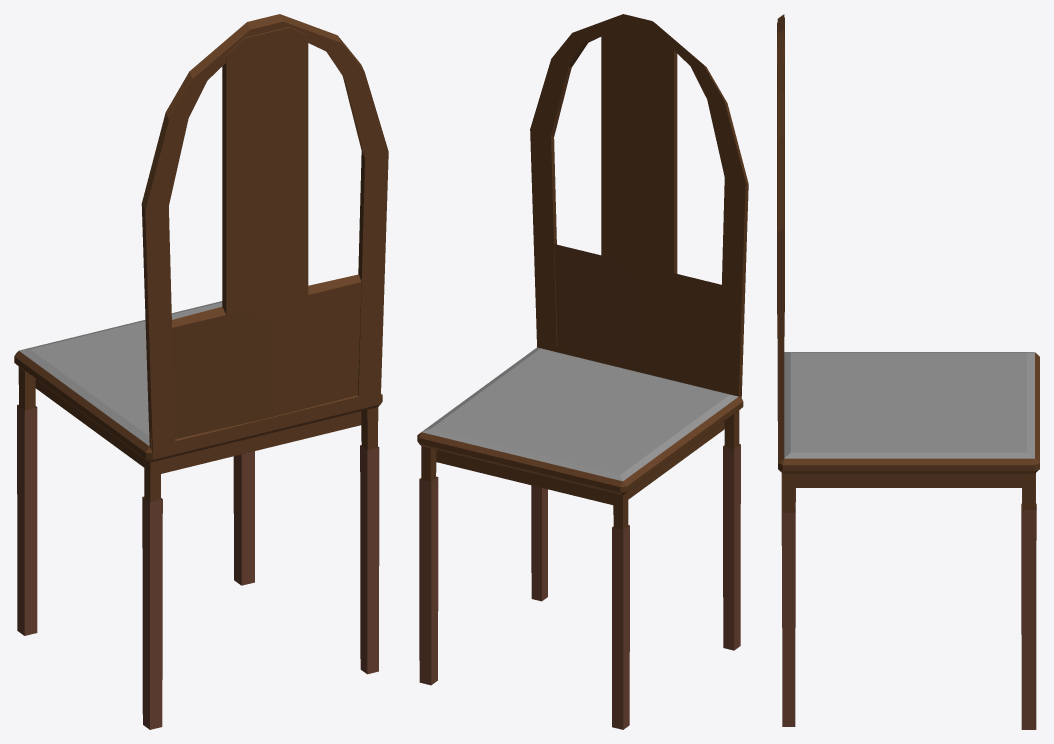
File: 1920Chair.fbx
The picture shows the model from 3 angles, left to right: view 1: azimuth 30°, elevation 25°; view 2: azimuth 150°, elevation 25°; view 3: azimuth 270°, elevation 25°; orthographic projection. The views are drawn at different scales.
Parts seen in each view (by area): view 1: Cube; view 2: Cube; view 3: Cube.
Boxes of the visible parts, left/top/right/bottom form: Cube: left=14, top=14, right=388, bottom=729; Cube: left=417, top=14, right=748, bottom=729; Cube: left=777, top=14, right=1039, bottom=729.
Bounding box in the file's own units: 206 × 551 × 201.
